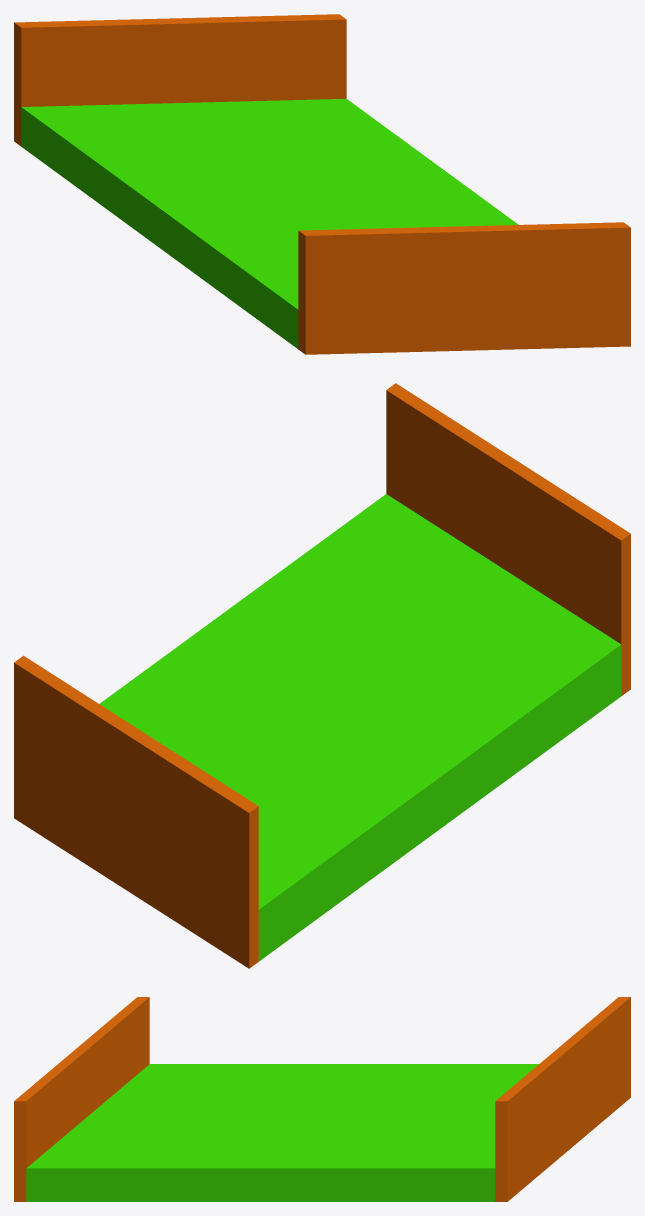
File: zigzag_wide.fbx
The picture shows the model from 3 angles, top to bottom: view 1: azimuth 30°, elevation 25°; view 2: azimuth 150°, elevation 25°; view 3: azimuth 270°, elevation 25°; orthographic projection. The views are drawn at different scales.
Parts seen in each view (by area): view 1: Plane; view 2: Plane; view 3: Plane.
Boxes of the visible parts, x1,y1,x2,y2 form: Plane: (14,14,630,354); Plane: (14,383,630,968); Plane: (14,997,630,1201).
Bounding box in the file's own units: 200 × 90 × 500.
